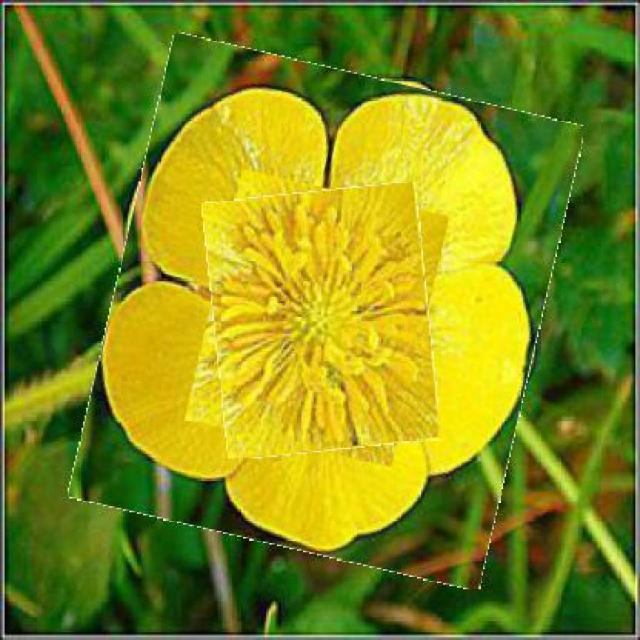Flower: (93, 54, 562, 571), (208, 187, 434, 456)
